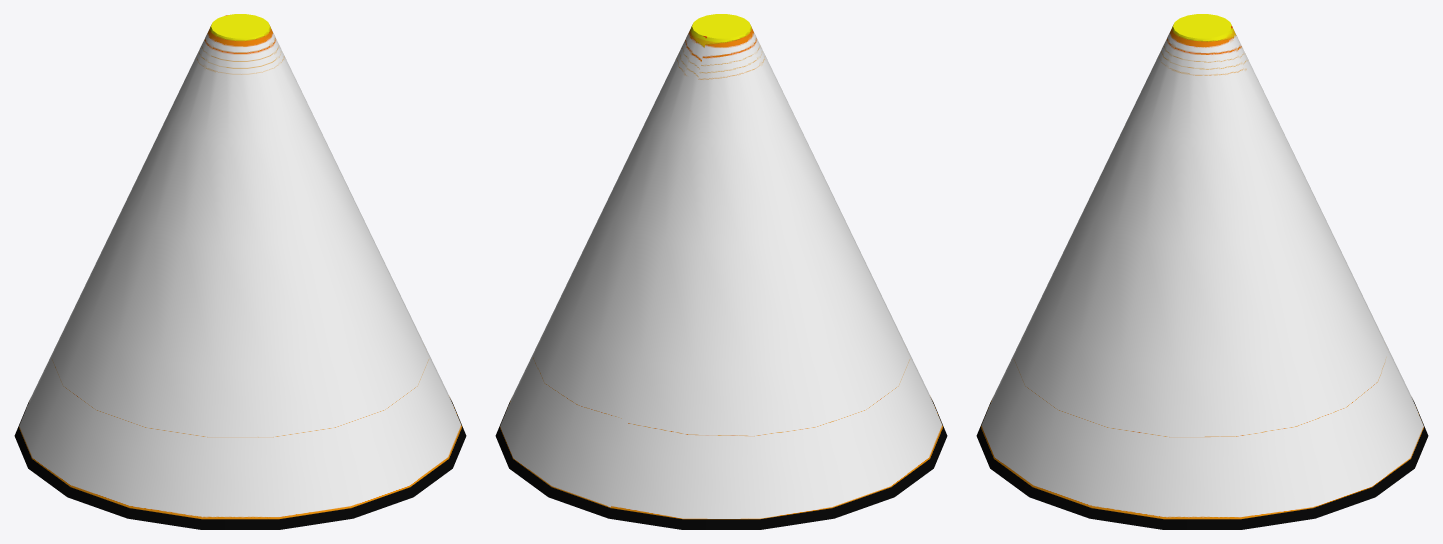
Rendered from G_LightCone.fbx.
3 views of the same model, side by side, from view 1: azimuth 30°, elevation 25°; view 2: azimuth 150°, elevation 25°; view 3: azimuth 270°, elevation 25° (orthographic).
Parts seen in each view (by area): view 1: LightCone; view 2: LightCone; view 3: LightCone.
Boxes of the visible parts, x1=… form: LightCone: x1=14, y1=14, x2=466, y2=529; LightCone: x1=495, y1=14, x2=947, y2=529; LightCone: x1=976, y1=14, x2=1428, y2=529.
Size of the model in its own units: 1.97 by 2 by 2.
